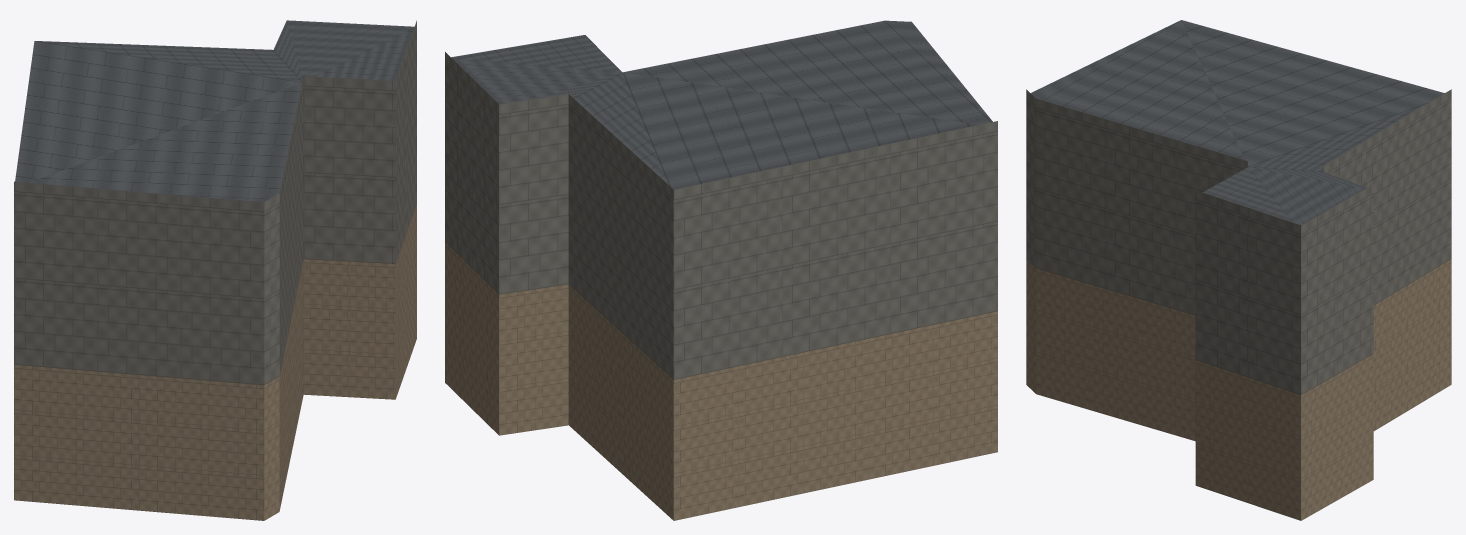
File: bld_c22_-49_542.gltf
The picture shows the model from 3 angles, left to right: view 1: azimuth 30°, elevation 25°; view 2: azimuth 150°, elevation 25°; view 3: azimuth 270°, elevation 25°; orthographic projection. The views are drawn at different scales.
Parts seen in each view (by area): view 1: bld_c22_-49_542; view 2: bld_c22_-49_542; view 3: bld_c22_-49_542.
Part boxes in pixels (x1=…): bld_c22_-49_542: x1=14, y1=20, x2=416, y2=520; bld_c22_-49_542: x1=445, y1=20, x2=997, y2=520; bld_c22_-49_542: x1=1026, y1=20, x2=1451, y2=520.
Size of the model in its own units: 18.38 by 11.98 by 15.63.
4 materials, 4 textured.
